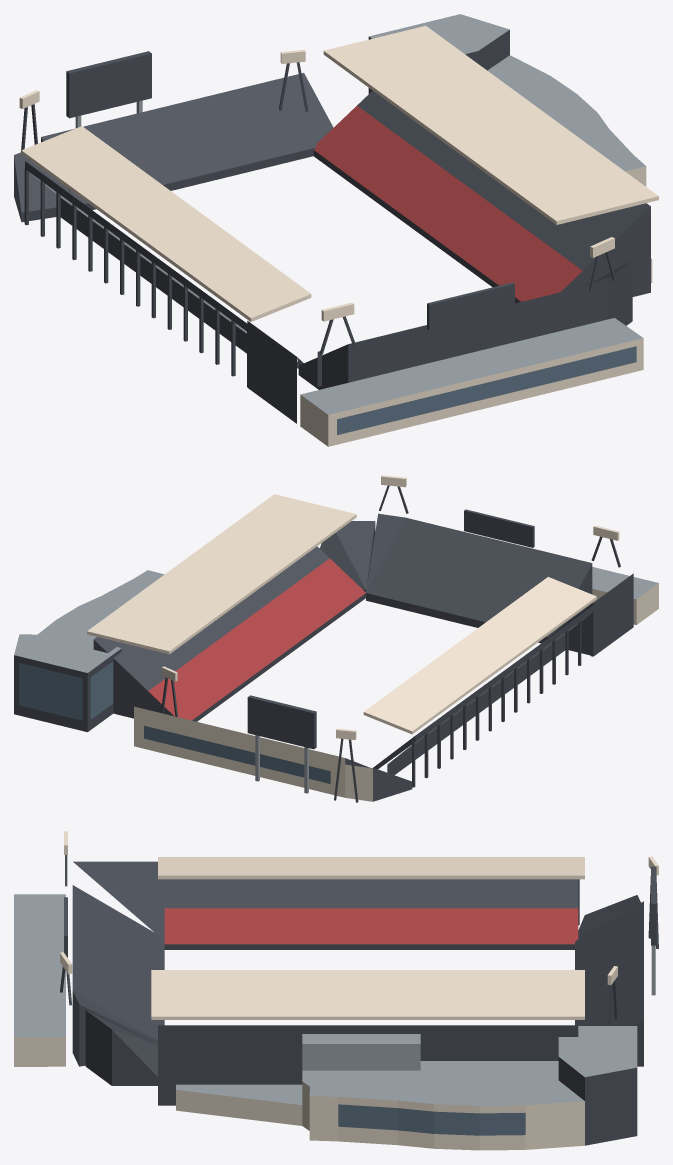
The model's file is dc-audi-field.glb.
3 views of the same model, one above another, from view 1: azimuth 30°, elevation 25°; view 2: azimuth 150°, elevation 25°; view 3: azimuth 270°, elevation 25° (orthographic). The views are drawn at different scales.
Parts seen in each view (by area): view 1: Audi Field; view 2: Audi Field; view 3: Audi Field.
Part boxes in pixels (x1=…): Audi Field: x1=14, y1=14, x2=658, y2=446; Audi Field: x1=14, y1=475, x2=658, y2=802; Audi Field: x1=14, y1=831, x2=658, y2=1150.
Bounding box in the file's own units: 163 × 34.5 × 196.
